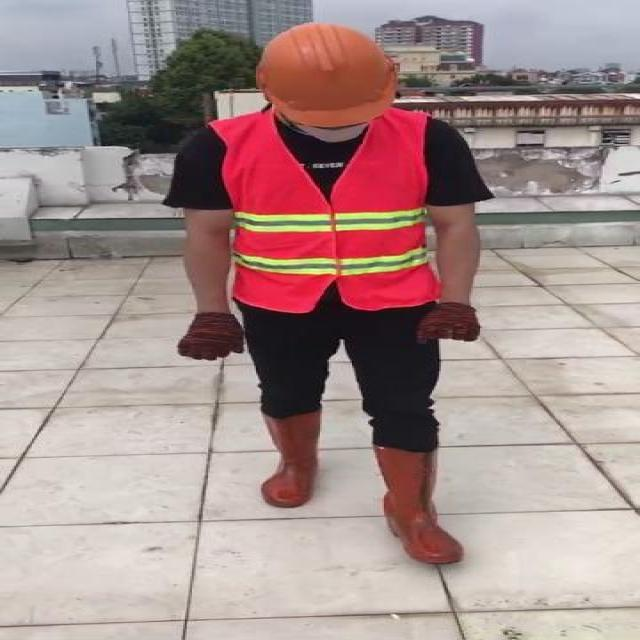boots: (368, 442, 466, 565), (260, 413, 322, 506)
hand_glove: (178, 312, 244, 362), (418, 301, 478, 346)
head_helmet: (249, 23, 398, 130)
person: (160, 14, 505, 582)
vest: (210, 112, 441, 310)
